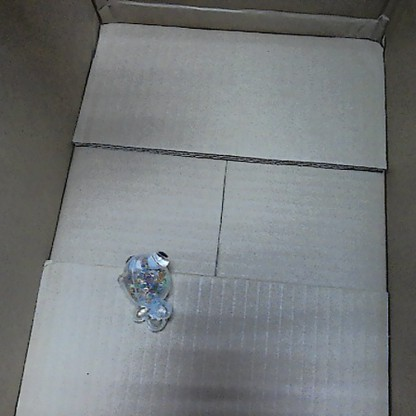whitefish: (118, 247, 177, 330)
